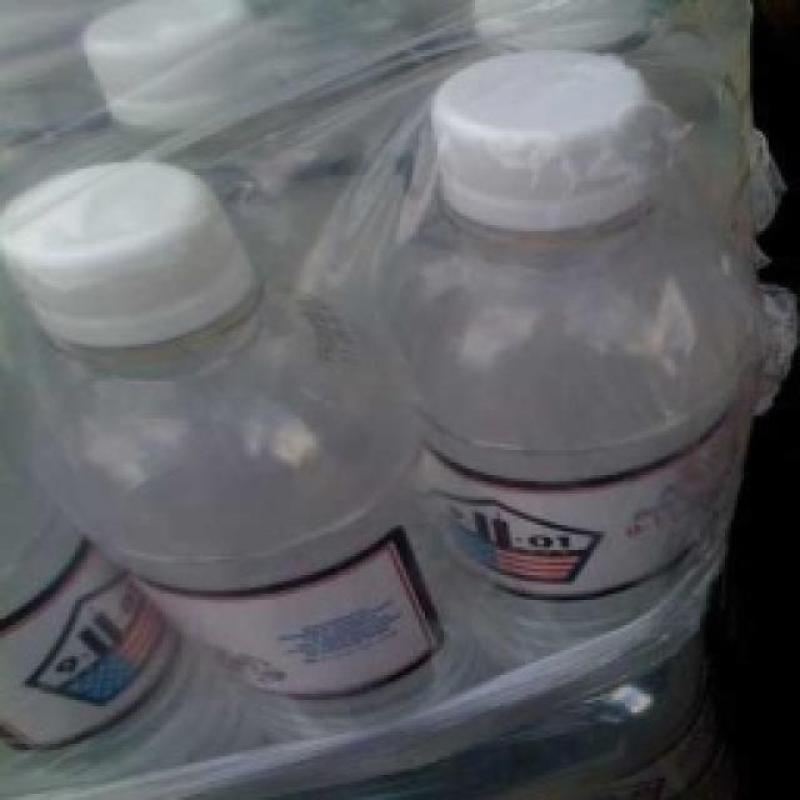botella: (0, 163, 475, 735), (392, 48, 760, 664), (0, 445, 278, 789), (76, 0, 292, 138), (470, 0, 651, 52)
